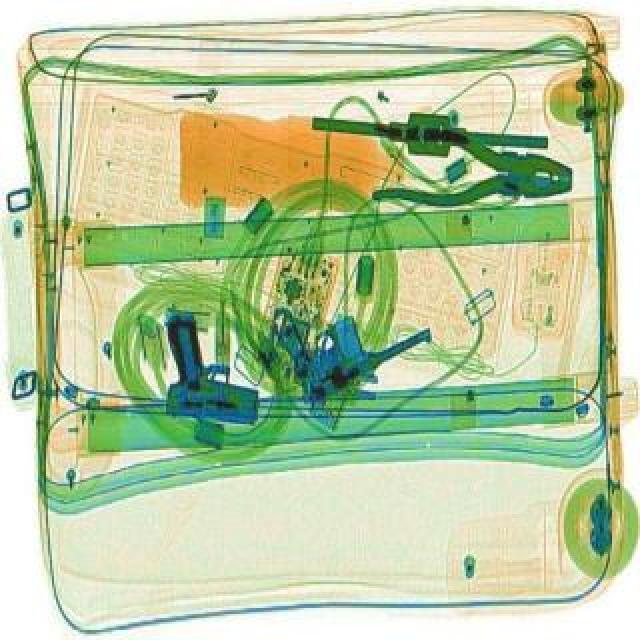gun: (252, 256, 434, 408), (164, 316, 258, 428)
wrench: (368, 122, 576, 226)
